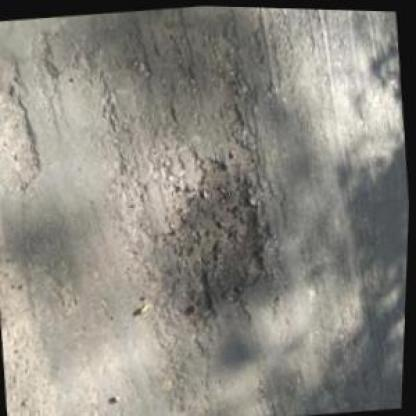pothole: (157, 146, 277, 314), (0, 84, 49, 188)
